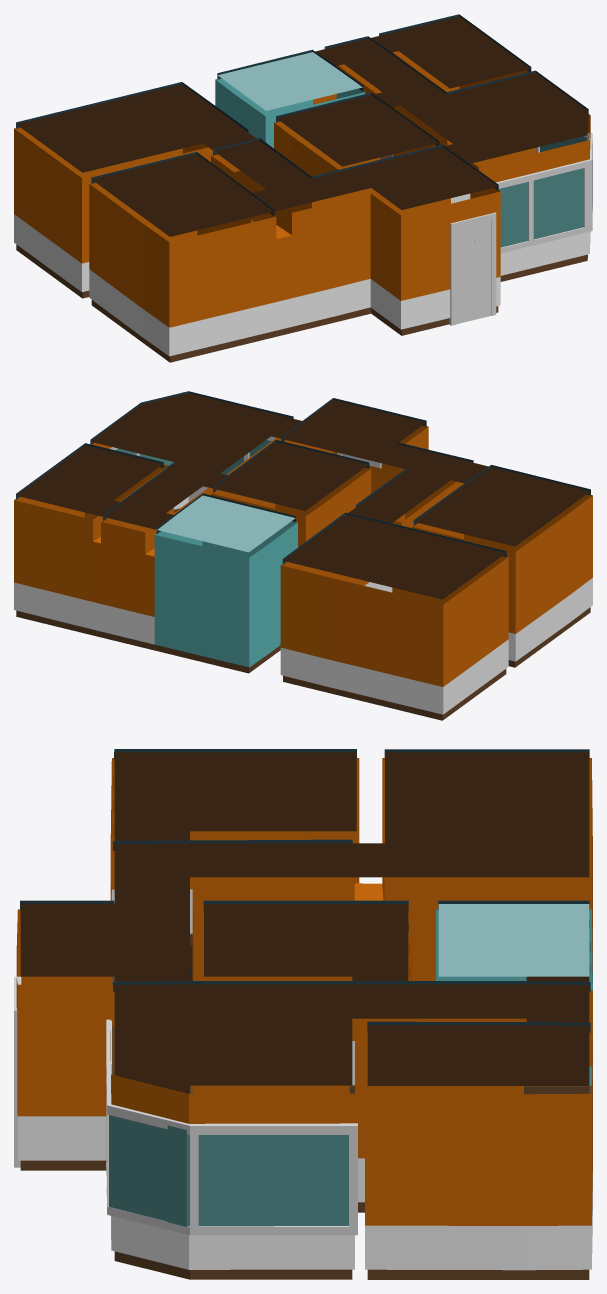
Rendered from Casa2.FBX.
3 views of the same model, one above another, from view 1: azimuth 30°, elevation 25°; view 2: azimuth 150°, elevation 25°; view 3: azimuth 270°, elevation 25° (orthographic). The views are drawn at different scales.
Visible parts, largest first — view 1: Plane001, Object002, Object001, Box002, Box006, Box001; view 2: Plane001, Object002, Object001; view 3: Object002, Plane001, Object001, Box006, Box001.
Boxes of the visible parts, <box> form: Plane001: <box>14,14,590,362</box>; Object002: <box>16,16,588,236</box>; Object001: <box>498,136,592,247</box>; Box002: <box>456,219,490,324</box>; Box006: <box>496,132,592,253</box>; Box001: <box>449,212,496,325</box>; Plane001: <box>14,391,592,720</box>; Object002: <box>16,393,590,599</box>; Object001: <box>116,440,271,474</box>; Object002: <box>20,752,589,1085</box>; Plane001: <box>16,749,592,1279</box>; Object001: <box>109,1115,348,1226</box>; Box006: <box>106,1019,357,1235</box>; Box001: <box>14,976,21,1167</box>.
Bounding box in the file's own units: 596 × 162 × 431.
